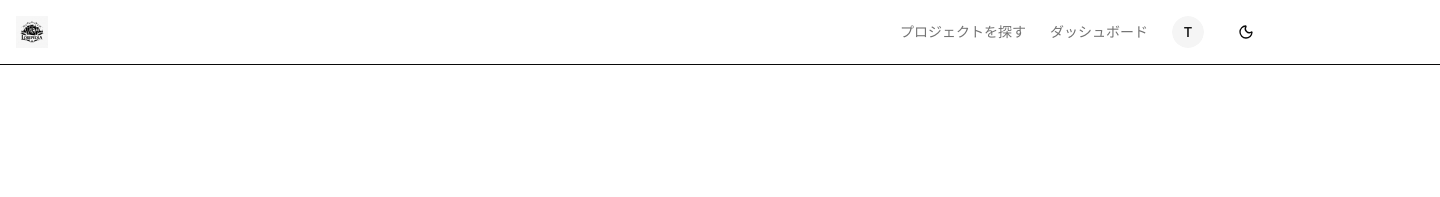
Scenario: Header › ログイン時 › ユーザーメニューが表示される
// クリックしてメニューを開く
Click the button "T": point(1188, 32) [1172,16,1204,48]
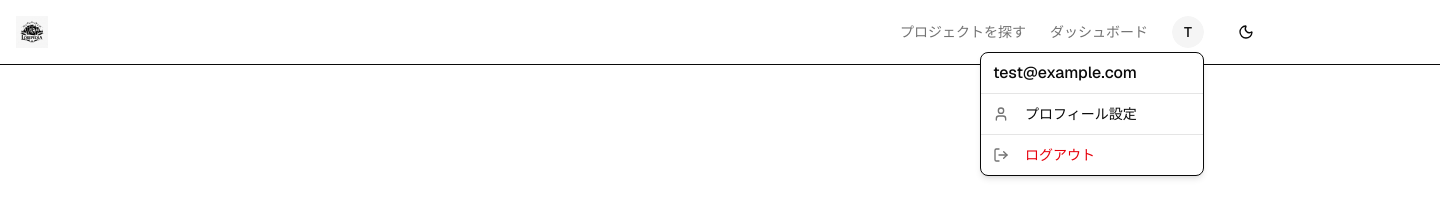
Result: the text "プロフィール設定" is shown at [1025,104,1137,124]
Result: the text "ログアウト" is shown at [1025,145,1095,165]
